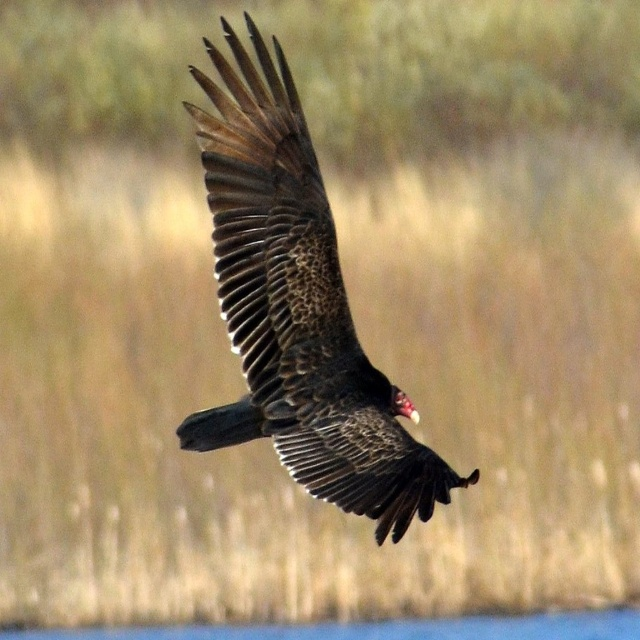Eagle: (174, 11, 481, 548)
